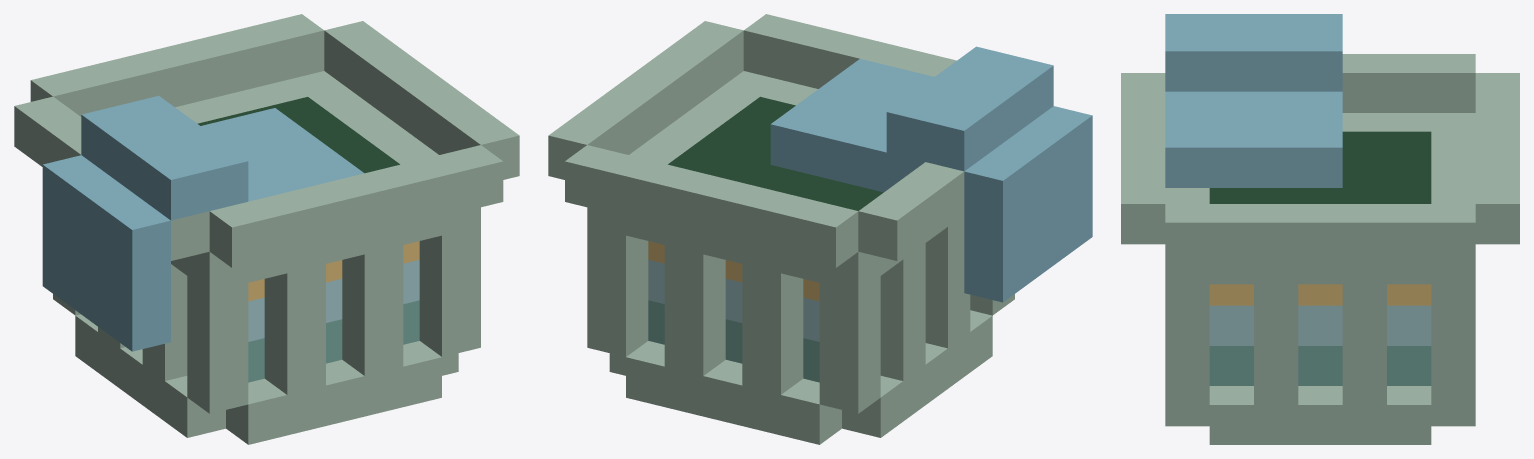
The model's file is Bunker - Free Sample-98-StorageBin.obj.
3 views of the same model, side by side, from view 1: azimuth 30°, elevation 25°; view 2: azimuth 150°, elevation 25°; view 3: azimuth 270°, elevation 25° (orthographic).
Parts seen in each view (by area): view 1: StorageBin; view 2: StorageBin; view 3: StorageBin.
Part boxes in pixels (x1,y1,x2,y2): StorageBin: [14, 14, 519, 444]; StorageBin: [548, 14, 1092, 444]; StorageBin: [1121, 14, 1519, 444].
Size of the model in its own units: 0.2 by 0.14 by 0.18.
Materials: 1 (1 with a texture image).
